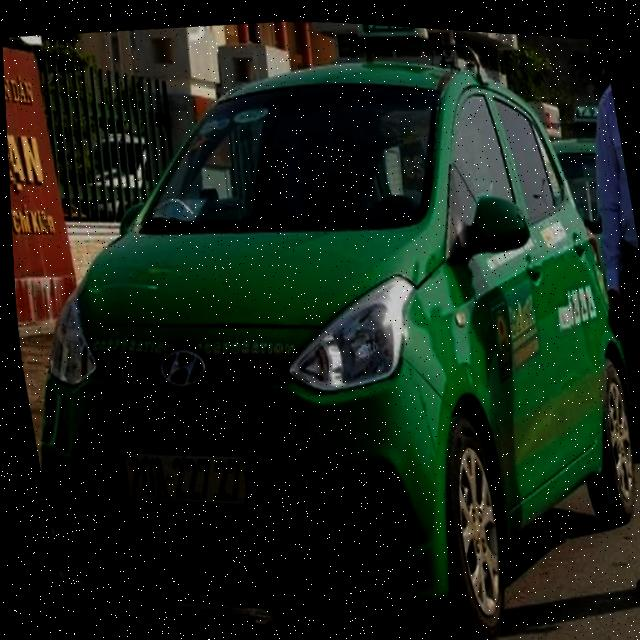car: (0, 2, 640, 640)
plate: (112, 431, 261, 525)
